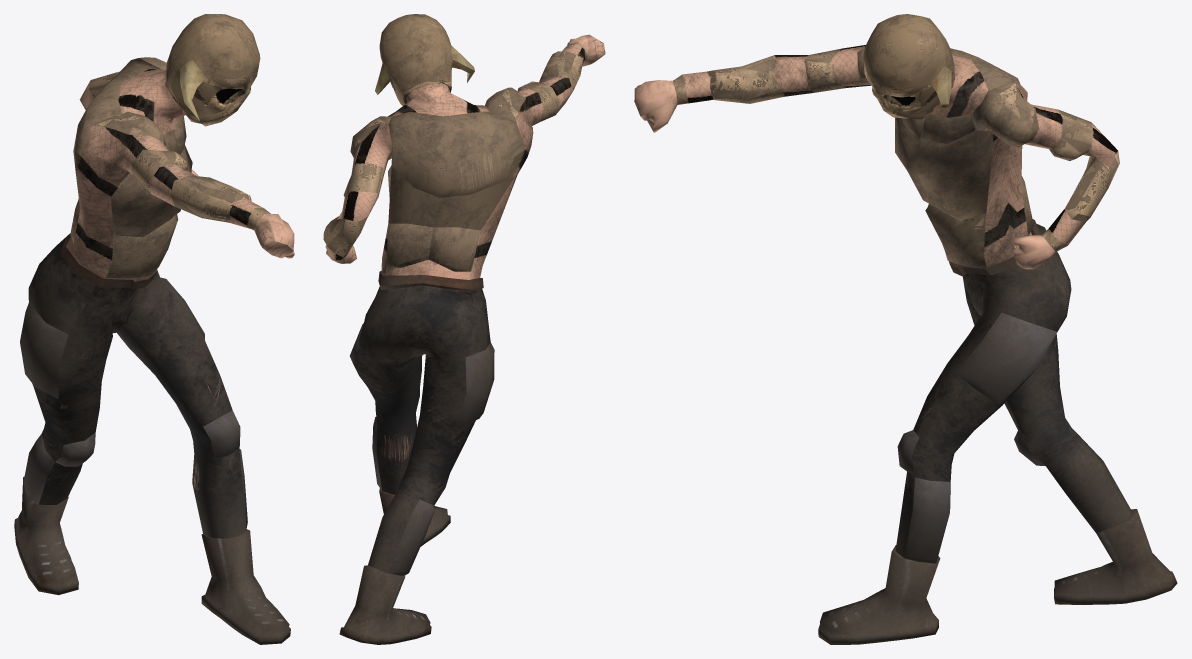
Rendered from Anim_ataque_d2_npc1.0022.obj.
3 renders of one model, left to right at view 1: azimuth 30°, elevation 25°; view 2: azimuth 150°, elevation 25°; view 3: azimuth 270°, elevation 25°, orthographic. The views are drawn at different scales.
Visible parts, largest first — view 1: NPC2; view 2: NPC2; view 3: NPC2.
Part boxes in pixels (x1,y1,x2,y2): NPC2: (14,14,294,644); NPC2: (323,14,605,644); NPC2: (634,14,1177,644).
Size of the model in its own units: 2.58 by 8.78 by 6.96.
